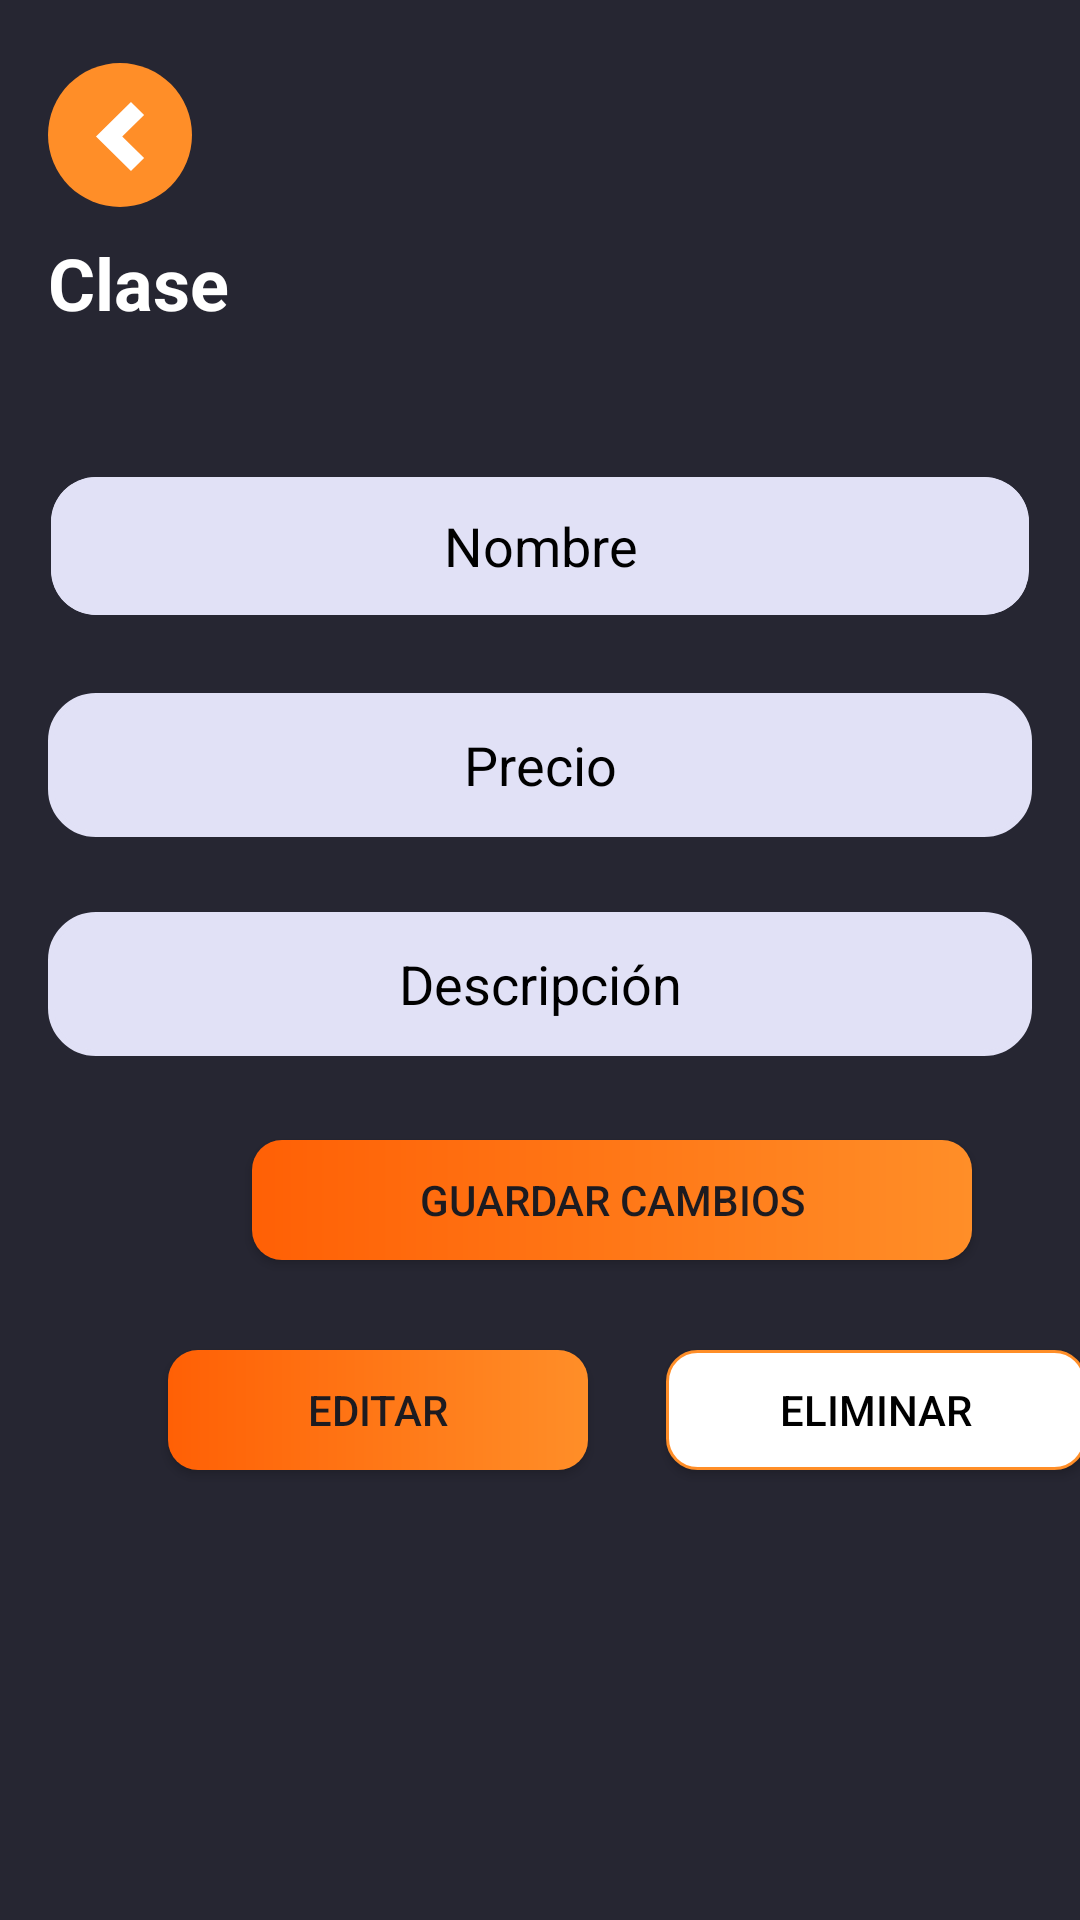

Where to tap for icons on this 1080 x 1920 app screen, as [x,y]:
volver: [120,135]
